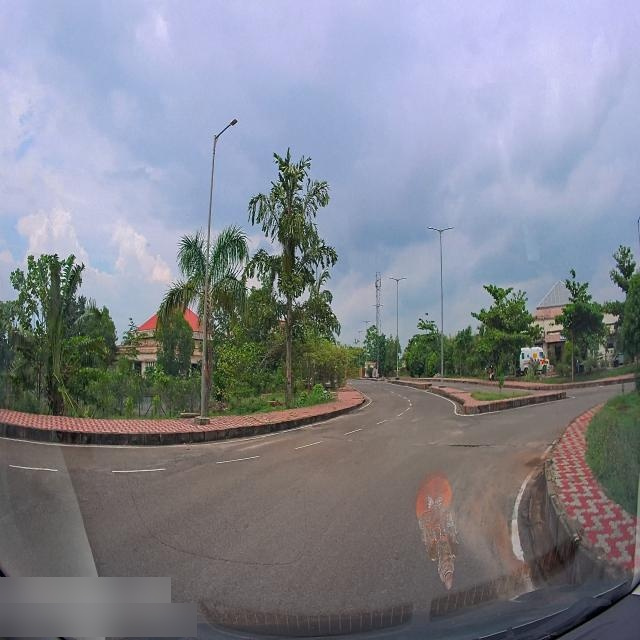pothole: (453, 443, 492, 452)
